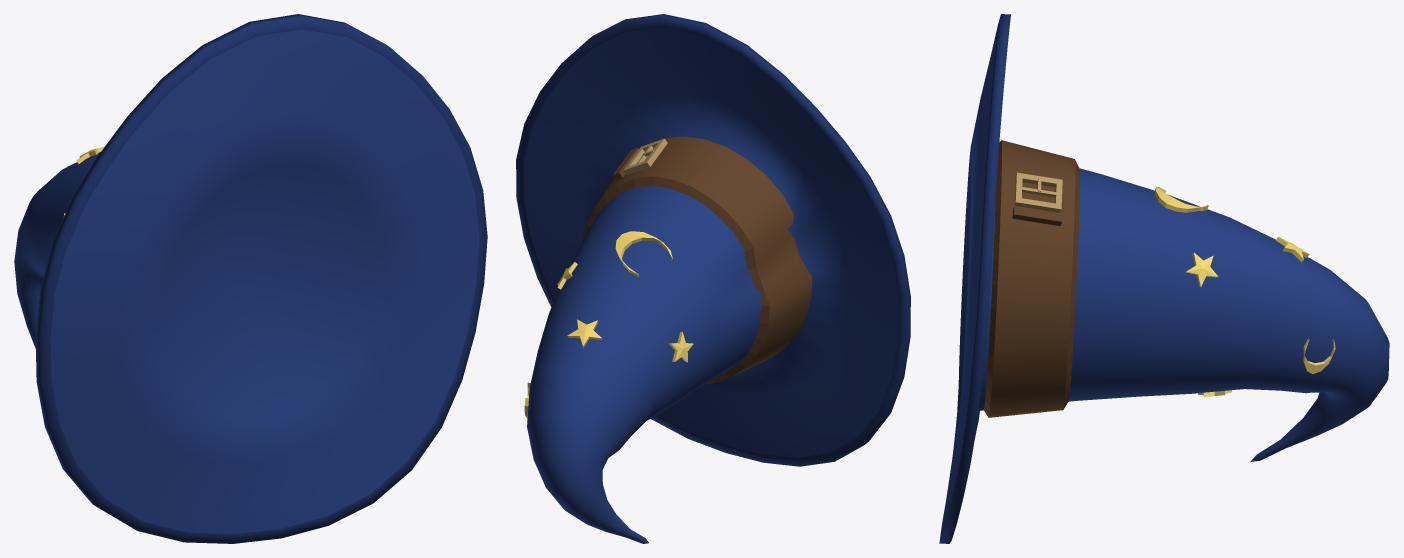
The model's file is Wizard Hat-b30bid5U.glb.
3 views of the same model, side by side, from view 1: azimuth 30°, elevation 25°; view 2: azimuth 150°, elevation 25°; view 3: azimuth 270°, elevation 25° (orthographic). The views are drawn at different scales.
Visible parts, largest first — view 1: Wizard_Hat_Fitted.001; view 2: Wizard_Hat_Fitted.001; view 3: Wizard_Hat_Fitted.001.
Part boxes in pixels (x1=…): Wizard_Hat_Fitted.001: x1=14, y1=14, x2=487, y2=543; Wizard_Hat_Fitted.001: x1=516, y1=14, x2=910, y2=543; Wizard_Hat_Fitted.001: x1=939, y1=14, x2=1389, y2=543.
Bounding box in the file's own units: 0.4201 × 0.4506 × 0.3737.
